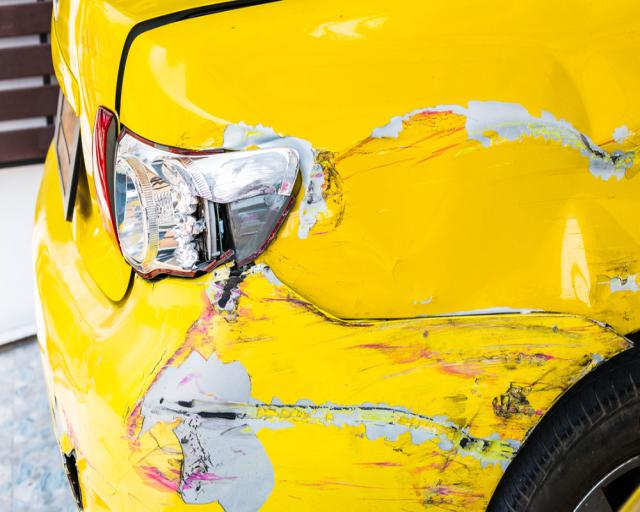dent: (558, 195, 640, 334), (548, 52, 627, 144)
lamp broken: (115, 125, 299, 277)
scratch: (119, 262, 635, 512), (298, 98, 640, 240)
